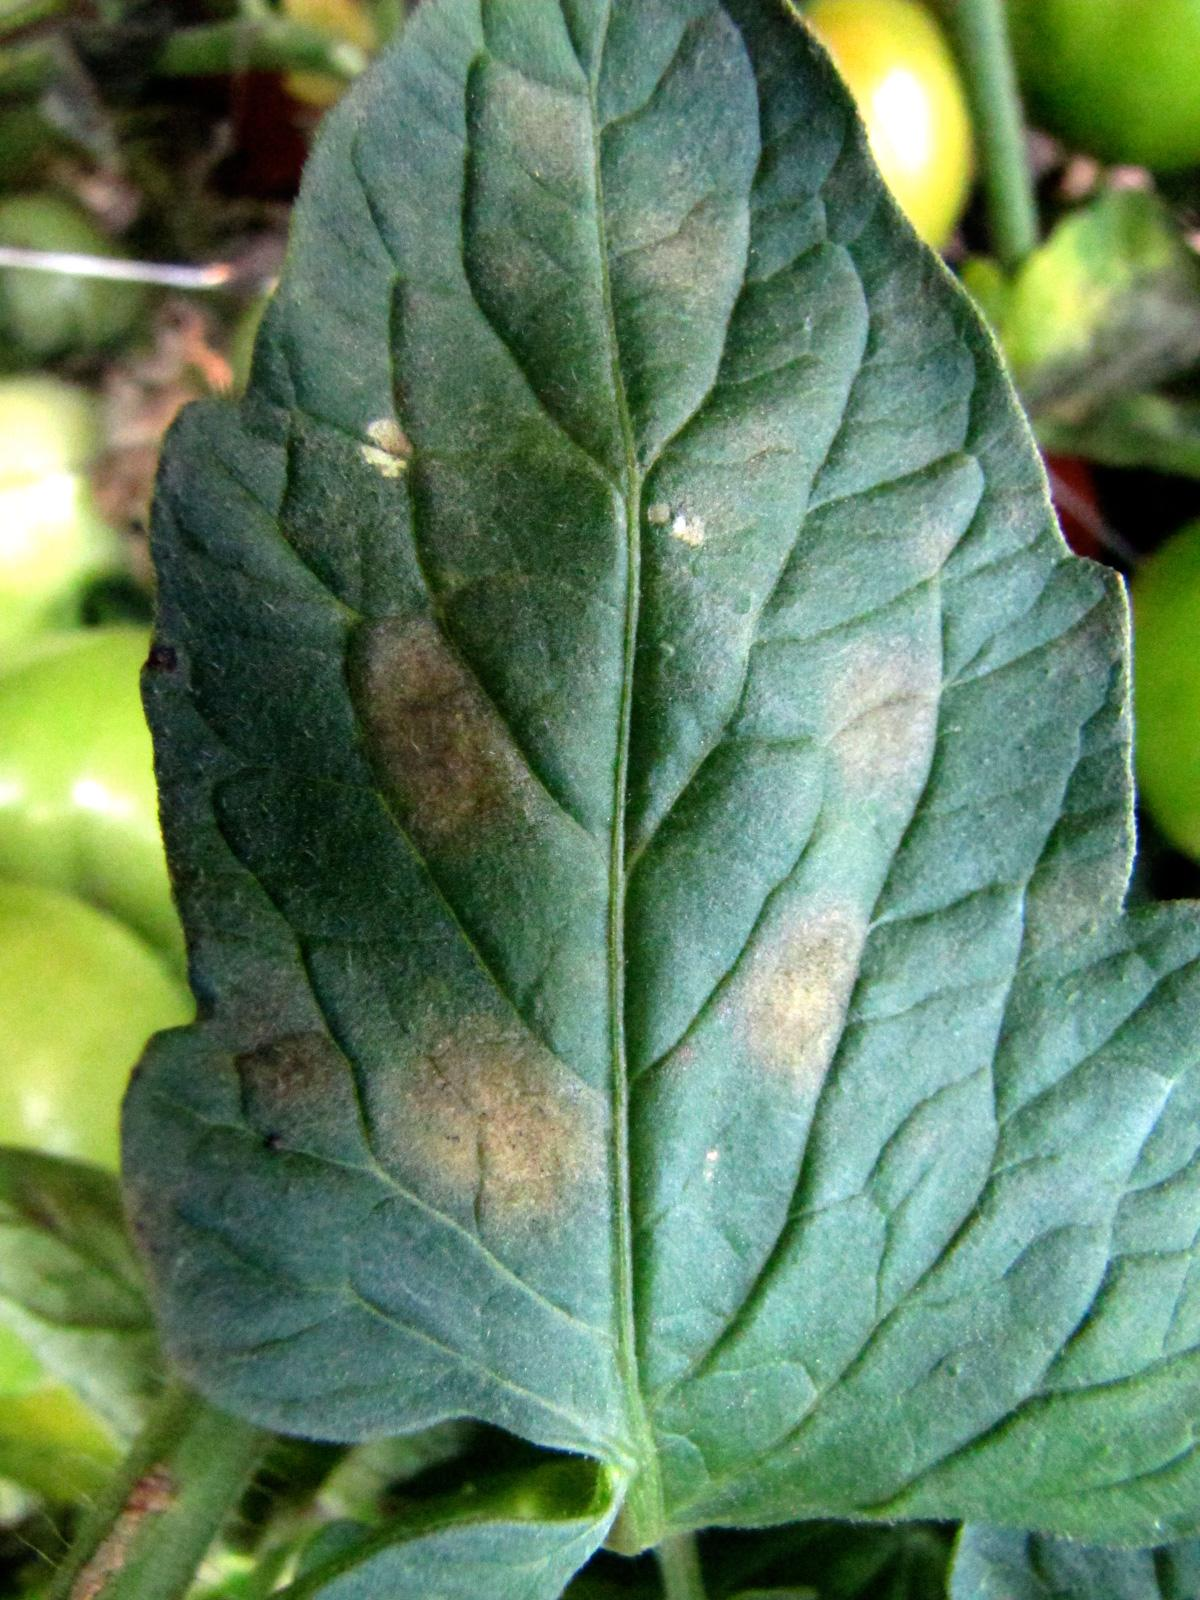Tomato mold leaf: (118, 0, 1182, 1571)
